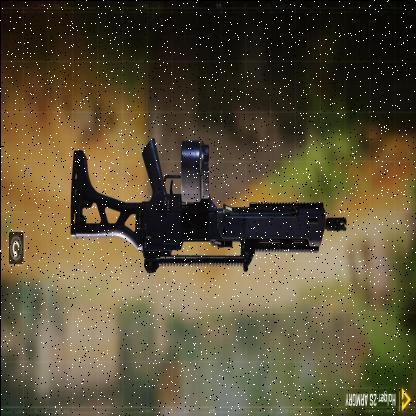rifle: (61, 118, 343, 275)
